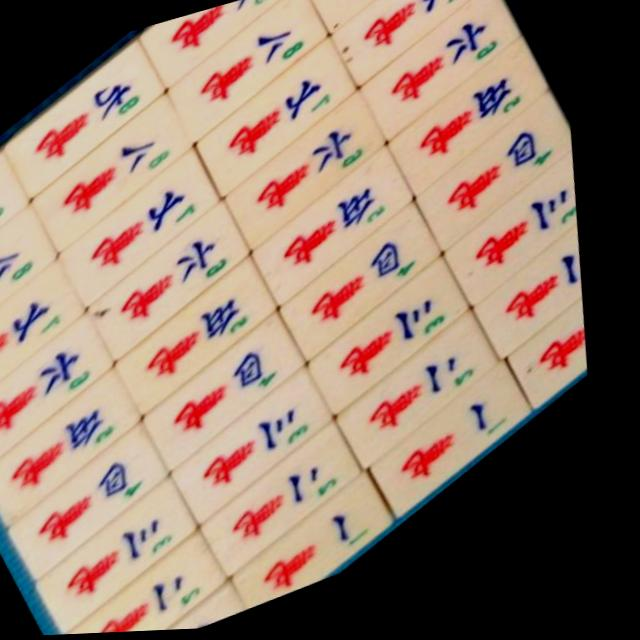sc1: (366, 367, 570, 536), (234, 472, 433, 620), (499, 291, 616, 437), (107, 577, 286, 635)
sc2: (196, 418, 409, 594), (330, 314, 538, 486), (464, 229, 619, 385), (68, 522, 269, 636)
sc3: (297, 258, 511, 435), (162, 359, 375, 536), (28, 464, 243, 637), (428, 161, 613, 329)
sc4: (134, 309, 347, 485), (266, 203, 479, 379), (0, 417, 209, 591), (400, 102, 606, 274)
sc5: (234, 145, 450, 324), (102, 249, 317, 428), (369, 44, 581, 220), (0, 360, 183, 537)
sc6: (207, 90, 422, 270), (73, 196, 288, 375), (340, 0, 550, 165), (0, 306, 147, 472)
sc7: (176, 37, 390, 214), (39, 146, 253, 323), (312, 0, 513, 106), (0, 250, 120, 412), (0, 253, 115, 410)
sc8: (8, 83, 225, 264), (149, 0, 350, 155), (0, 191, 89, 346), (290, 0, 476, 54)
sc9: (0, 34, 195, 214), (126, 0, 321, 107), (0, 141, 60, 288), (273, 0, 439, 2)
